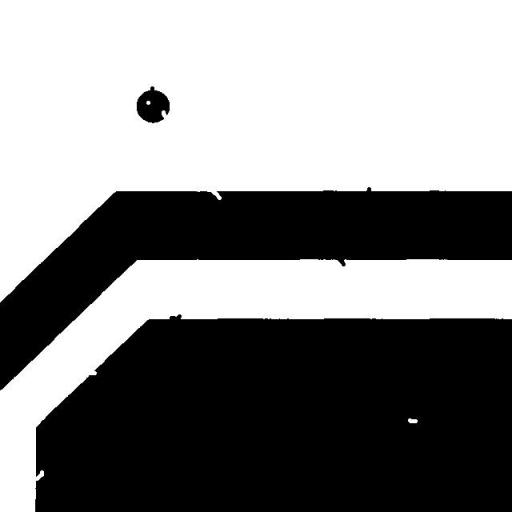mousebite: (198, 178, 229, 207), (26, 462, 52, 488), (154, 102, 174, 126), (82, 364, 104, 382)
pin-hole: (400, 410, 425, 430), (138, 93, 158, 112)
spur: (326, 248, 353, 274), (162, 306, 188, 328), (142, 78, 162, 104), (358, 180, 378, 202)
